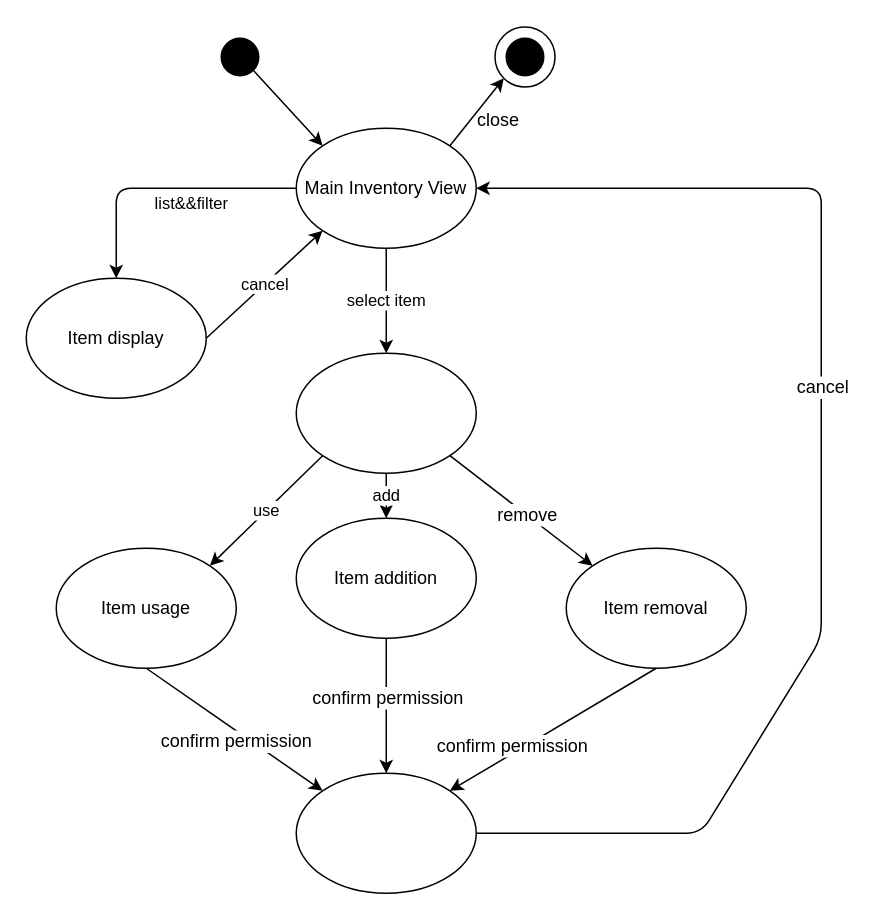
Some shapes in this 875 by 920 pixel diagram are drawn without their labels. Here are the shapes that lost their labels. From the top down, the centre of each, then its label:
At (385,412): "Item selection".
At (385,832): "Operation Confirm".
